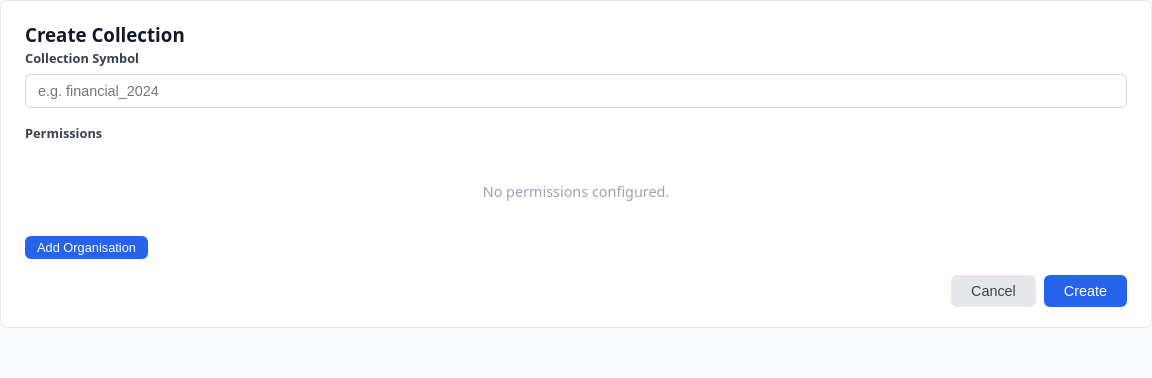
Scenario: CollectionForm › shows validation error when no organisation has owner rights
Type "valid_symbol" into the field labelled "Collection Symbol" at {"x": 576, "y": 91}, box [25,74,1127,108]
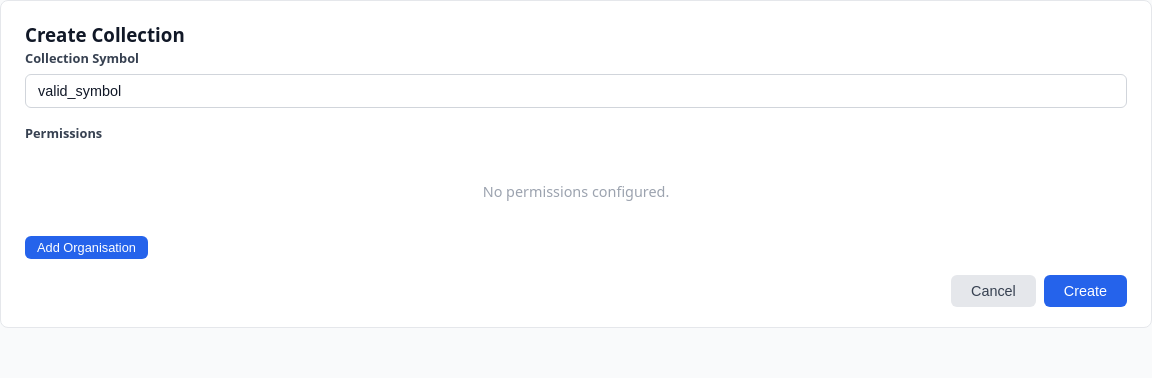
Add a permission org without owner
Click the button "Add Organisation" at {"x": 86, "y": 248}, box [25,236,148,259]
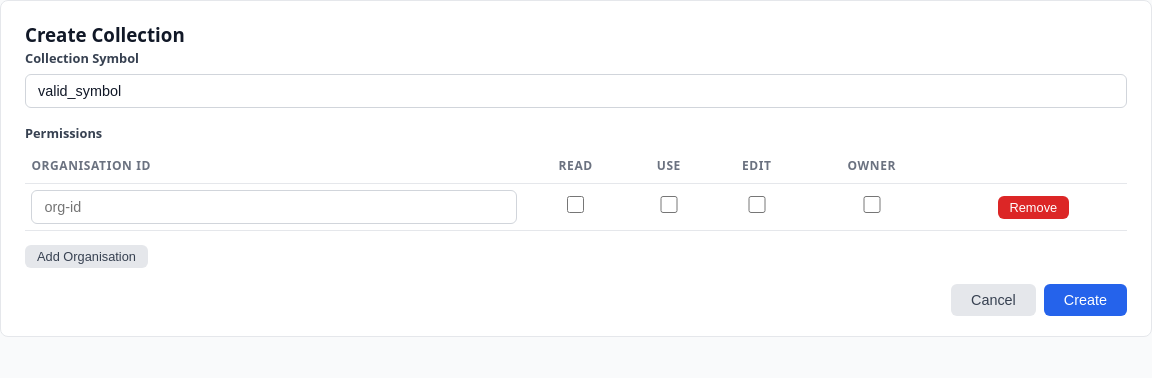
Type "org1" into the field named "Organisation ID" at {"x": 274, "y": 207}, box [31,190,517,224]
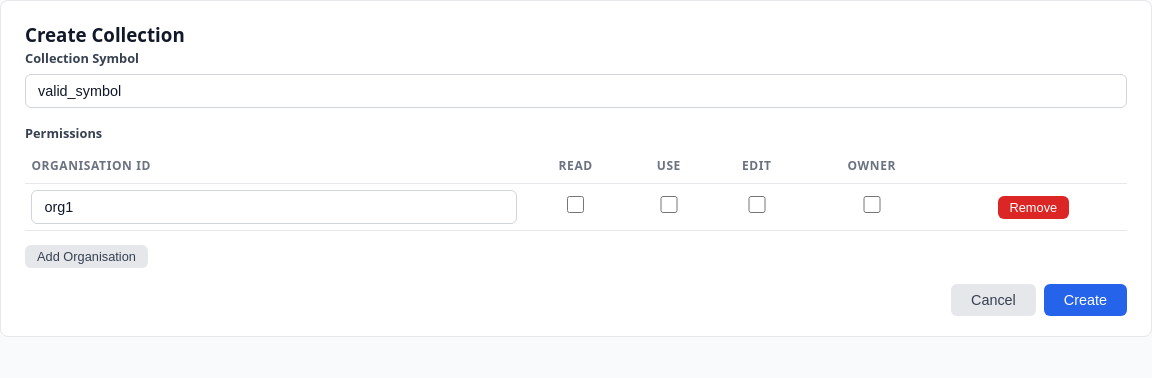
Click the button "Create" at {"x": 1085, "y": 300}, box [1044,284,1127,316]
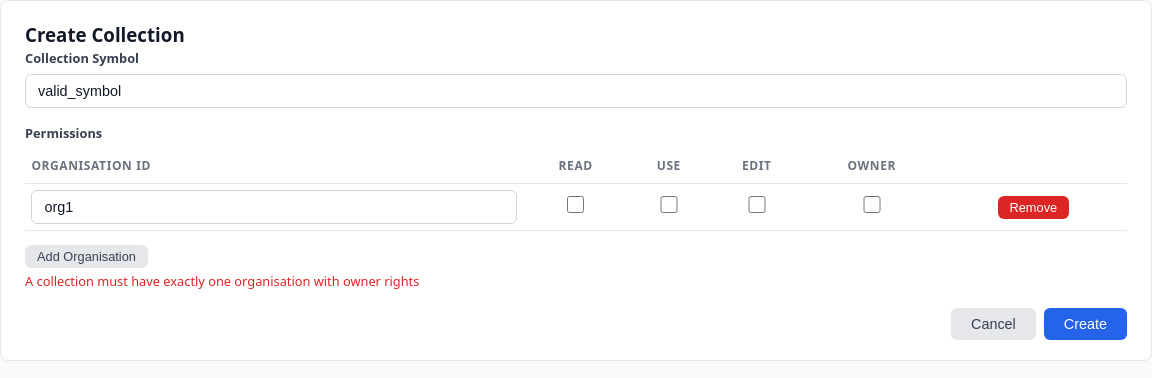
Expected: the text "A collection must have exactly one organisation with owner rights" is shown, [25,272,419,290]
